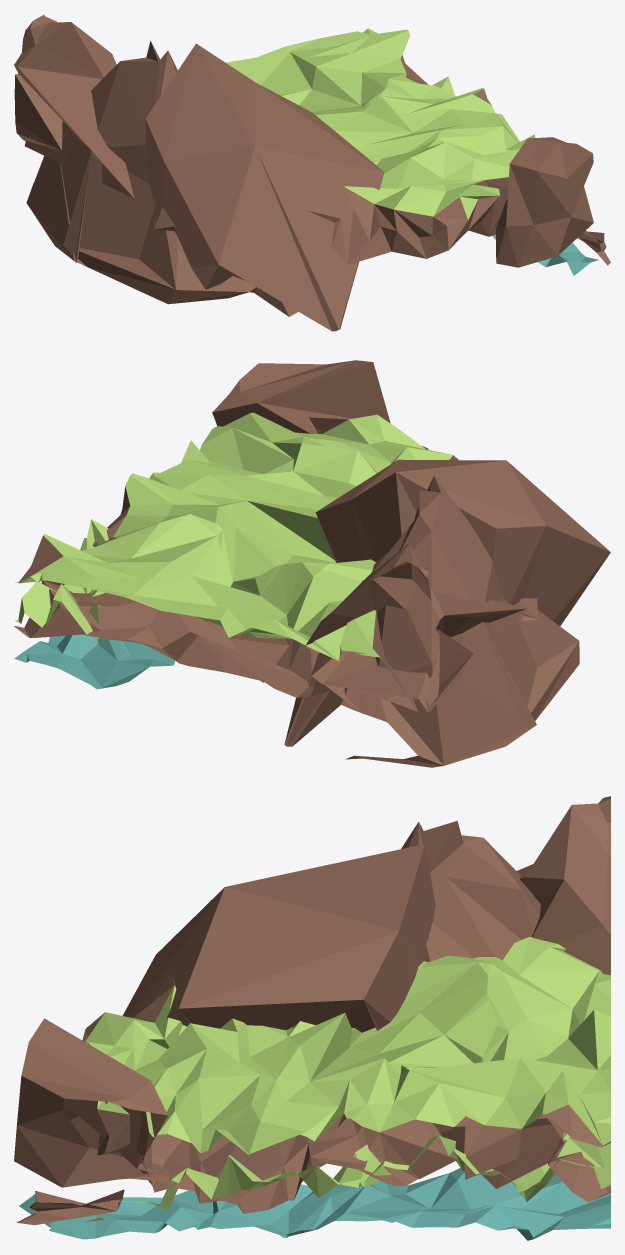
The model's file is RG_Terrain-Mesh-12.fbx.
The picture shows the model from 3 angles, top to bottom: view 1: azimuth 30°, elevation 25°; view 2: azimuth 150°, elevation 25°; view 3: azimuth 270°, elevation 25°; orthographic projection. The views are drawn at different scales.
Visible parts, largest first — view 1: RG_Terrain-Mesh-12; view 2: RG_Terrain-Mesh-12; view 3: RG_Terrain-Mesh-12.
Part boxes in pixels (x1,y1,x2,y2): RG_Terrain-Mesh-12: [14, 14, 610, 331]; RG_Terrain-Mesh-12: [14, 360, 610, 767]; RG_Terrain-Mesh-12: [14, 796, 610, 1240].
Bounding box in the file's own units: 140 × 68.65 × 147.
